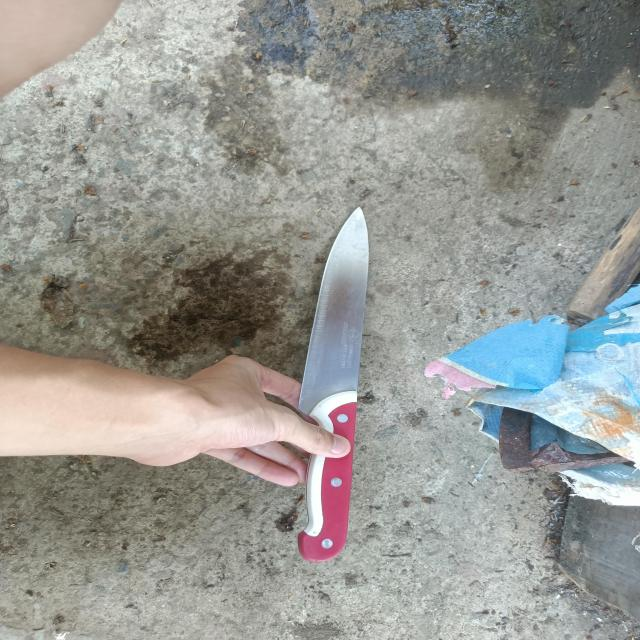knife: (298, 207, 371, 557)
